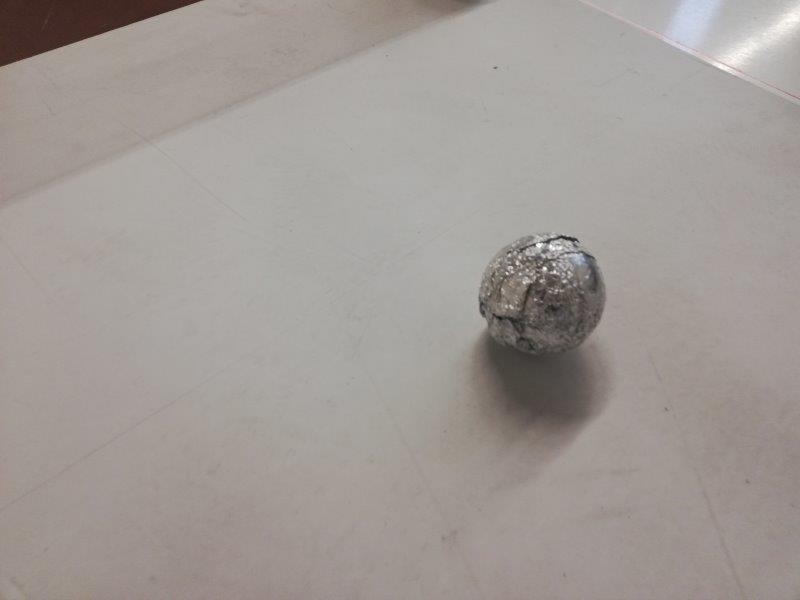bianca: (477, 232, 607, 356)
